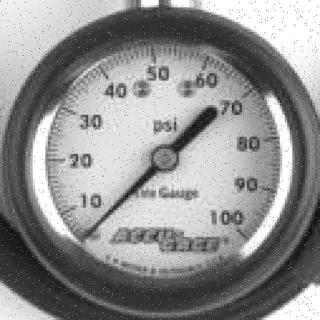gauge: (1, 0, 320, 320), (228, 214, 256, 252), (149, 144, 181, 174), (76, 221, 103, 253), (78, 228, 94, 245)
